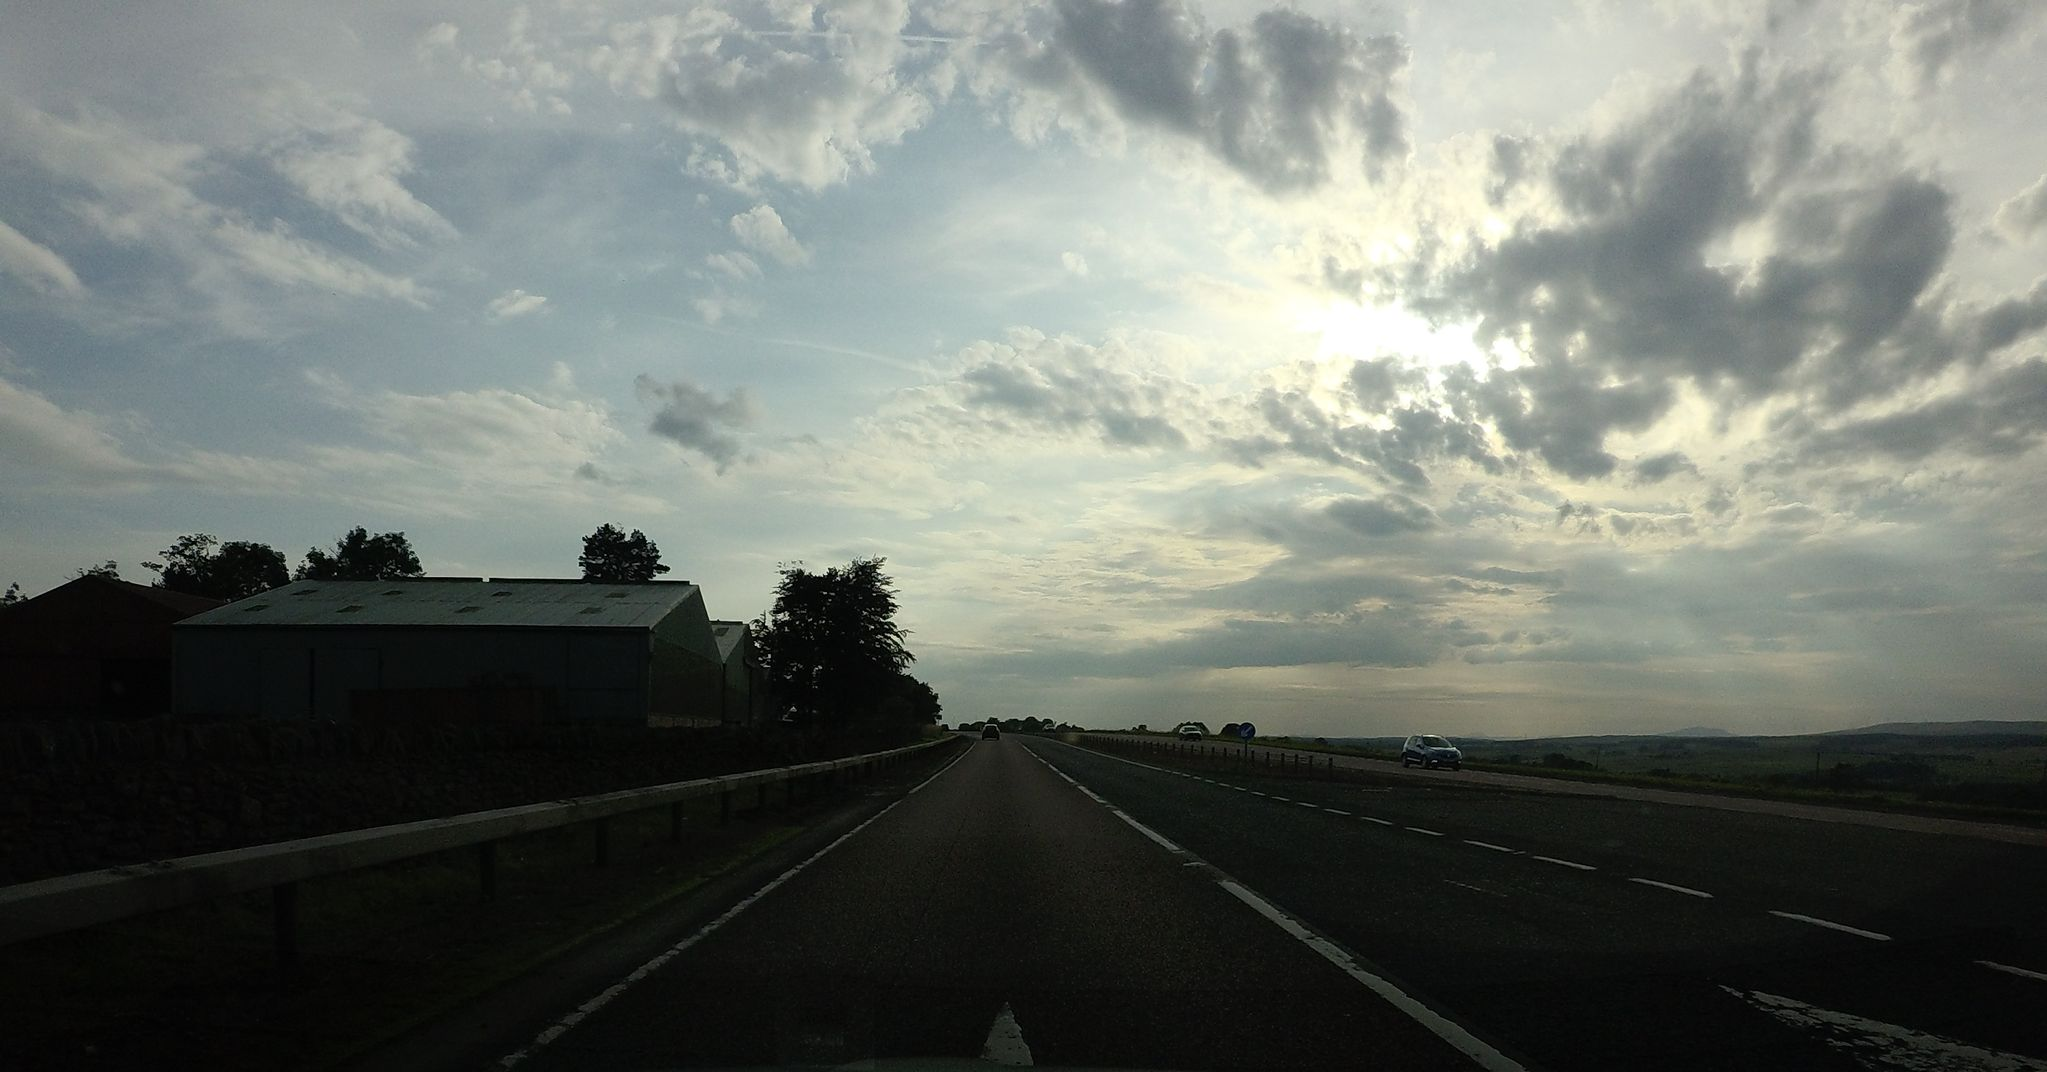car: (1400, 734, 1462, 770), (1178, 724, 1202, 740), (980, 723, 1000, 740)
